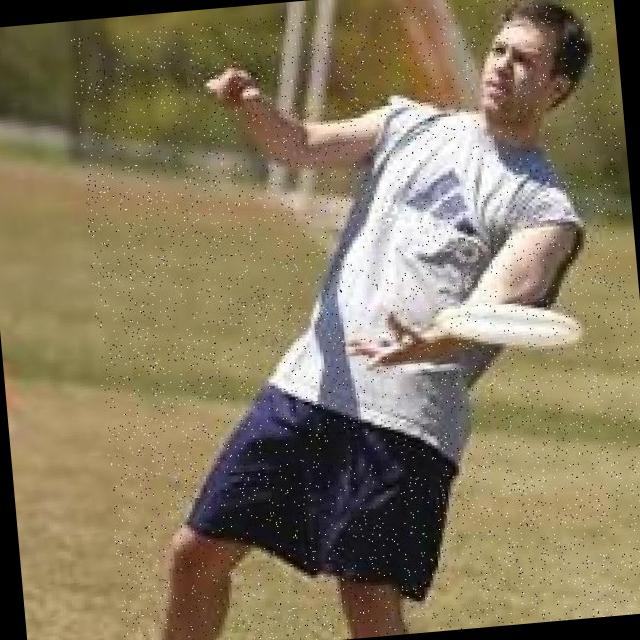no-gloves: (343, 308, 442, 382), (204, 55, 274, 116)
no-helmet: (469, 0, 599, 126)
